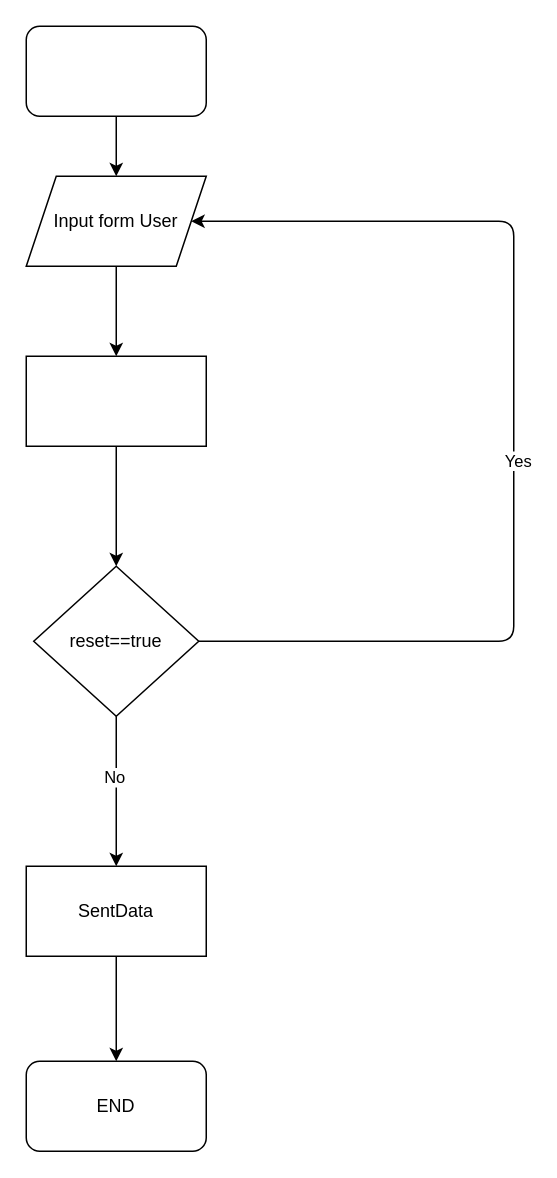
Image size: 557x1178. Some labels were removed from this diagram. The shapes that lost their labels are listed below. From the top down, each one's box as (x1, y1, x2, y2) in pixels, then its label:
(25, 25, 206, 116): Start
(25, 355, 206, 446): Set to object
